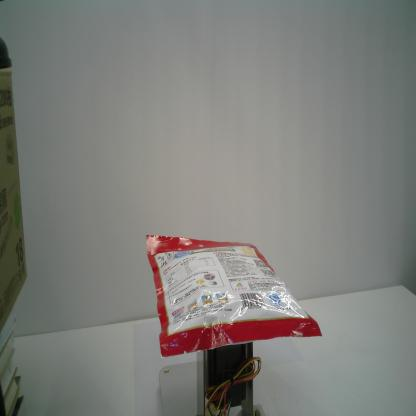Instant Drink: (142, 231, 323, 358)
